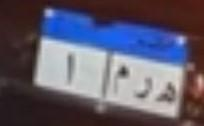1: (63, 50, 77, 85)
haa: (155, 78, 175, 109)
meem: (110, 61, 129, 98)
raa: (131, 71, 152, 102)
